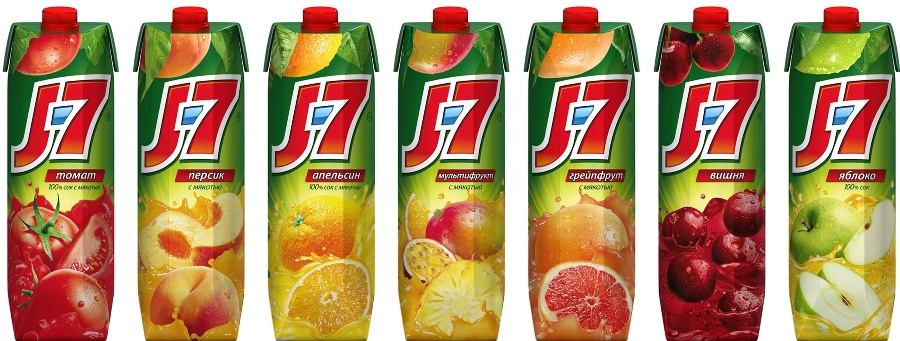juice: (254, 2, 388, 341), (645, 1, 778, 341), (514, 1, 645, 341), (124, 1, 255, 339), (5, 1, 132, 341), (388, 1, 510, 341), (781, 2, 897, 341)
